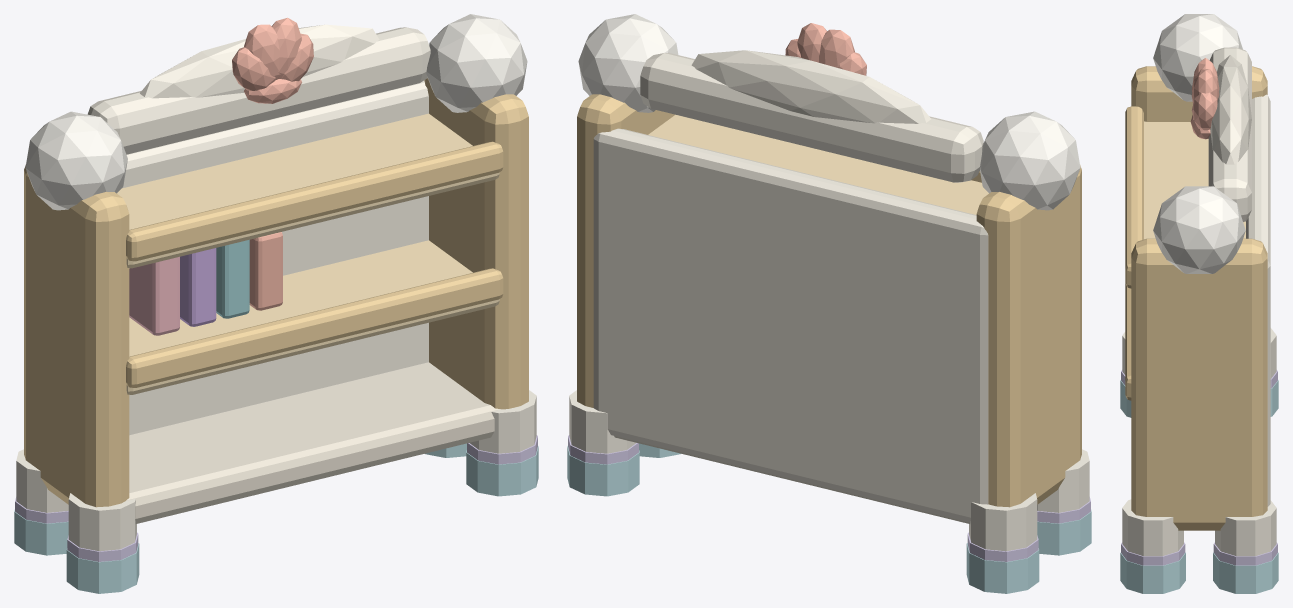
The model's file is pearl_bookcase.glb.
3 views of the same model, side by side, from view 1: azimuth 30°, elevation 25°; view 2: azimuth 150°, elevation 25°; view 3: azimuth 270°, elevation 25° (orthographic). The views are drawn at different scales.
Parts seen in each view (by area): view 1: case_post_l, case_floor, case_back, case_post_r, case_shelf_1, case_crest, case_shelf_0, case_rail_hi, case_rail_lo, case_finial_l, case_finial_r, case_crest_arc (+17 smaller); view 2: case_back, case_post_l, case_crest, case_crest_arc, case_shelf_1, case_finial_l, case_post_r, case_finial_r, case_leg_l_b, case_leg_l_b_foot, case_leg_r_b_foot, case_leg_r_b (+7 smaller); view 3: case_post_r, case_finial_r, case_shelf_1, case_finial_l, case_back, case_crest_arc, case_rail_hi, case_crest, case_post_l, case_leg_r_f, case_leg_r_b, case_leg_r_b_foot (+10 smaller).
Boxes of the visible parts, <box> form: case_post_l: <box>24,165,129,507</box>; case_floor: <box>126,362,500,523</box>; case_back: <box>122,80,428,435</box>; case_post_r: <box>424,78,528,409</box>; case_shelf_1: <box>117,113,499,268</box>; case_crest: <box>87,27,430,154</box>; case_shelf_0: <box>126,240,499,394</box>; case_rail_hi: <box>126,141,503,261</box>; case_rail_lo: <box>126,268,503,387</box>; case_finial_l: <box>25,111,127,210</box>; case_finial_r: <box>426,14,527,112</box>; case_crest_arc: <box>140,24,379,98</box>; case_back: <box>593,128,988,522</box>; case_post_l: <box>976,165,1081,507</box>; case_crest: <box>640,53,983,182</box>; case_crest_arc: <box>691,50,930,123</box>; case_shelf_1: <box>648,114,988,214</box>; case_finial_l: <box>980,111,1080,210</box>; case_post_r: <box>577,94,674,407</box>; case_finial_r: <box>578,14,678,112</box>; case_leg_l_b: <box>969,493,1037,551</box>; case_leg_l_b_foot: <box>966,543,1039,593</box>; case_leg_r_b_foot: <box>567,446,639,496</box>; case_leg_r_b: <box>569,390,636,453</box>; case_post_r: <box>1131,238,1267,530</box>; case_finial_r: <box>1153,186,1245,273</box>; case_shelf_1: <box>1144,121,1245,239</box>; case_finial_l: <box>1153,14,1242,101</box>; case_back: <box>1246,94,1270,506</box>; case_crest_arc: <box>1210,55,1251,164</box>; case_rail_hi: <box>1125,106,1143,288</box>; case_crest: <box>1208,47,1251,221</box>; case_post_l: <box>1131,66,1267,121</box>; case_leg_r_f: <box>1122,499,1183,556</box>; case_leg_r_b: <box>1215,500,1276,556</box>; case_leg_r_b_foot: <box>1213,552,1278,593</box>.
Size of the model in its own units: 1.61 by 1.54 by 0.512.
